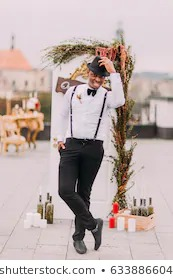F_dress pants: (60, 137, 100, 237)
F_shirt: (50, 70, 123, 139)
